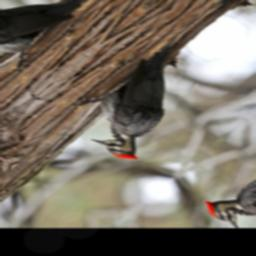Woodpecker: (54, 31, 239, 167)
